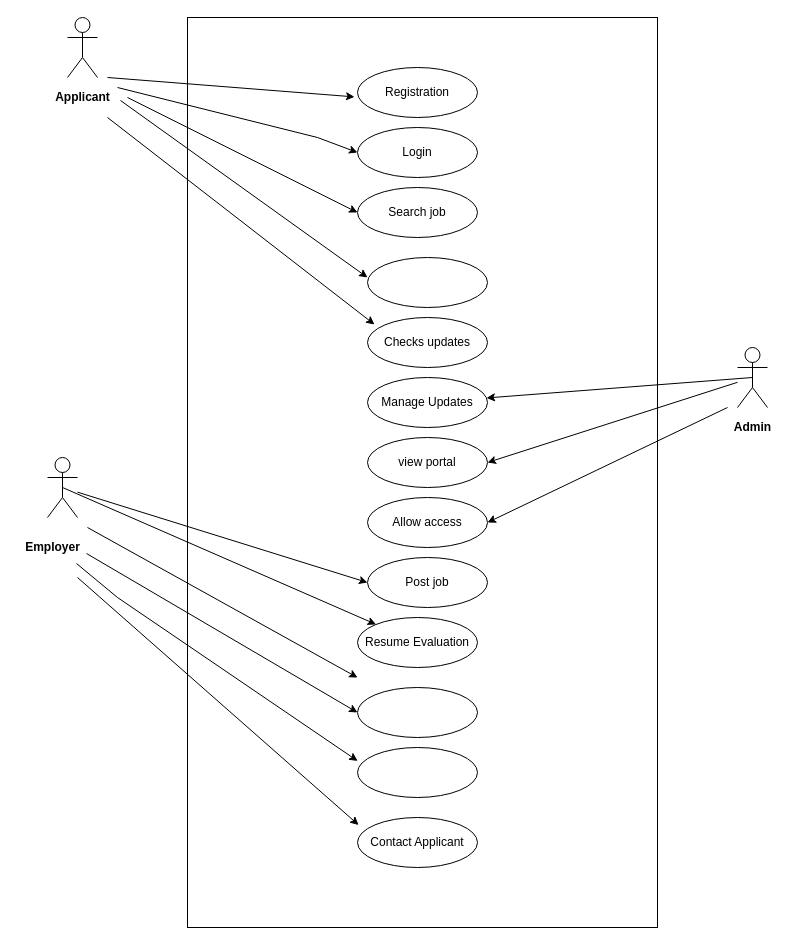
The diagram is 794 pixels wide and 945 high, and some of its shapes have lost their labels. The shapes that lost their labels are listed below. From the top down, each one's centre as x and y in pixels, then its label:
At (427,282): "Application on job".
At (417,712): "Update job".
At (417,772): "Choose Candidate".
